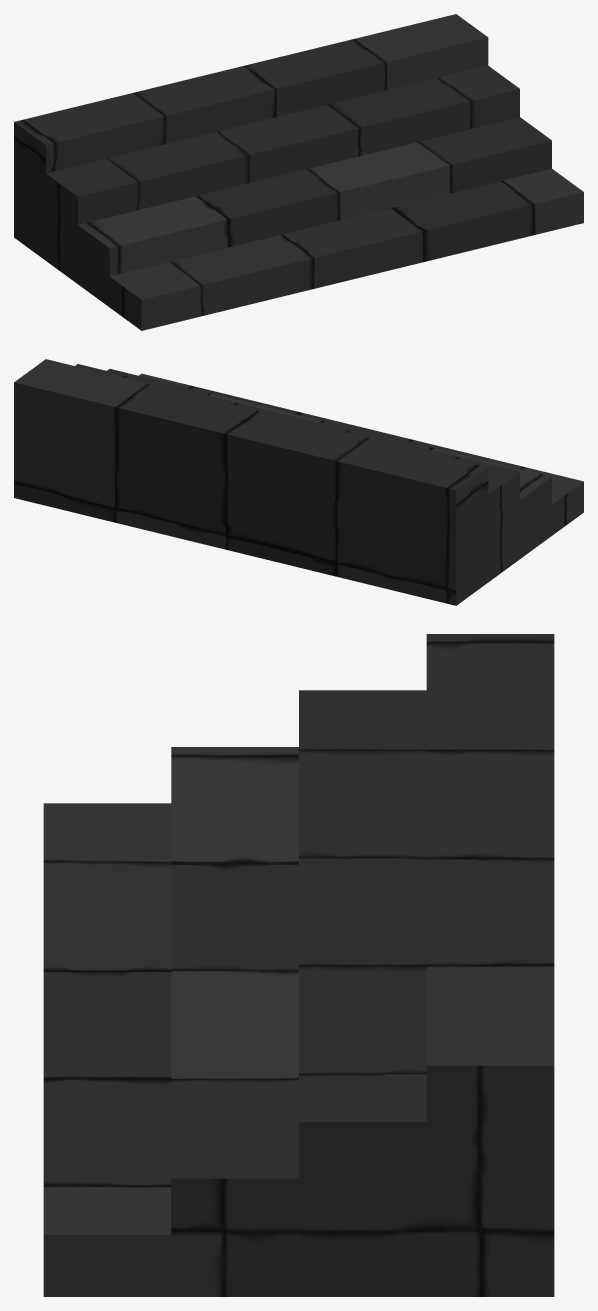
Rendered from SM_Buildings_Stairs_1x2_01.fbx.
3 renders of one model, top to bottom at view 1: azimuth 30°, elevation 25°; view 2: azimuth 150°, elevation 25°; view 3: azimuth 270°, elevation 25°, orthographic. The views are drawn at different scales.
Parts seen in each view (by area): view 1: SM_Buildings_Stairs_1x2_01; view 2: SM_Buildings_Stairs_1x2_01; view 3: SM_Buildings_Stairs_1x2_01.
Part boxes in pixels (x1=…): SM_Buildings_Stairs_1x2_01: x1=14, y1=14, x2=583, y2=330; SM_Buildings_Stairs_1x2_01: x1=14, y1=359, x2=583, y2=605; SM_Buildings_Stairs_1x2_01: x1=43, y1=634, x2=554, y2=1296.
Bounding box in the file's own units: 200 × 49.95 × 100.
Materials: 1 (1 with a texture image).
